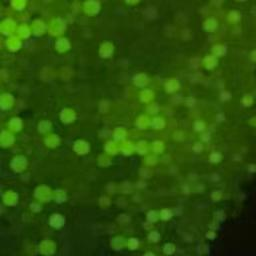negative: (38, 63, 58, 83), (94, 97, 114, 115), (161, 23, 178, 41), (217, 89, 234, 106), (172, 11, 190, 27), (119, 179, 135, 196), (59, 66, 75, 83), (104, 181, 120, 197), (142, 5, 158, 20), (1, 65, 11, 86), (117, 213, 133, 226), (180, 30, 194, 44), (134, 179, 149, 192)
positive: (9, 153, 32, 174), (135, 85, 159, 105), (96, 41, 119, 60), (49, 15, 69, 36), (5, 31, 24, 53), (37, 238, 60, 256), (59, 106, 79, 126), (6, 115, 26, 135), (0, 15, 19, 36), (0, 128, 18, 150), (80, 0, 104, 16), (34, 183, 54, 202), (108, 234, 129, 252), (30, 18, 48, 38), (44, 132, 64, 150), (0, 88, 15, 111), (15, 22, 33, 41), (54, 35, 73, 53), (35, 117, 54, 135), (48, 212, 67, 230), (134, 112, 153, 130), (73, 139, 93, 156), (131, 71, 152, 87), (164, 76, 182, 94), (200, 52, 218, 70), (208, 41, 226, 59), (2, 189, 19, 208), (117, 139, 136, 156), (201, 15, 220, 32), (95, 151, 113, 168), (191, 117, 209, 134), (102, 141, 119, 158), (149, 139, 166, 156), (145, 228, 162, 245), (150, 114, 167, 131), (51, 188, 69, 204), (110, 126, 130, 140), (227, 9, 242, 27), (28, 199, 47, 213), (135, 136, 149, 155), (97, 194, 114, 209), (125, 236, 141, 251), (240, 93, 256, 108), (208, 151, 225, 165), (10, 0, 29, 12), (158, 206, 173, 221), (161, 241, 177, 255), (142, 153, 158, 167), (210, 189, 225, 203), (192, 141, 206, 156), (145, 208, 159, 222), (143, 104, 160, 115), (123, 0, 143, 9), (172, 129, 184, 141), (186, 96, 197, 109), (141, 248, 158, 256), (247, 113, 256, 128), (195, 184, 207, 194), (207, 228, 216, 241), (248, 47, 256, 61), (182, 185, 190, 195), (250, 162, 256, 172)
